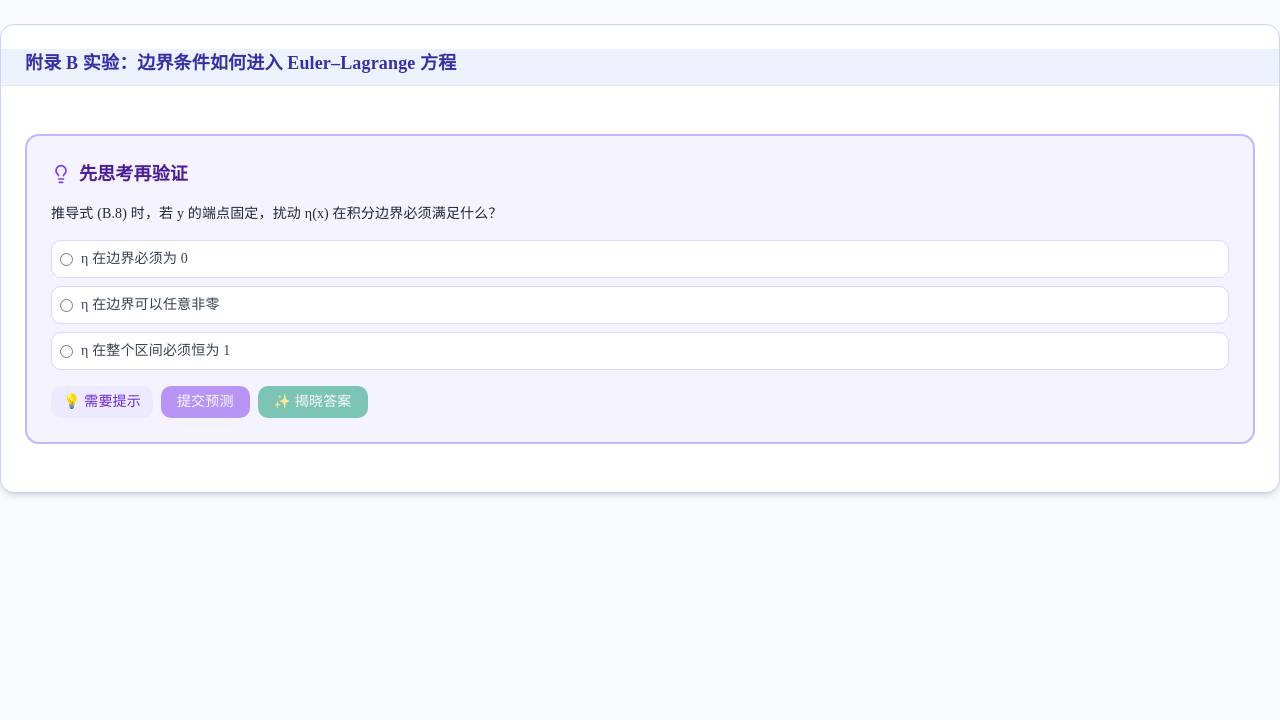
Test case: appendices A–C teaching-ready learning loops › makes the fixed-boundary assumption observable before the variational residual
Click the radio button labelled "η 在边界必须为 0" at (66, 259), box [60, 252, 73, 266]
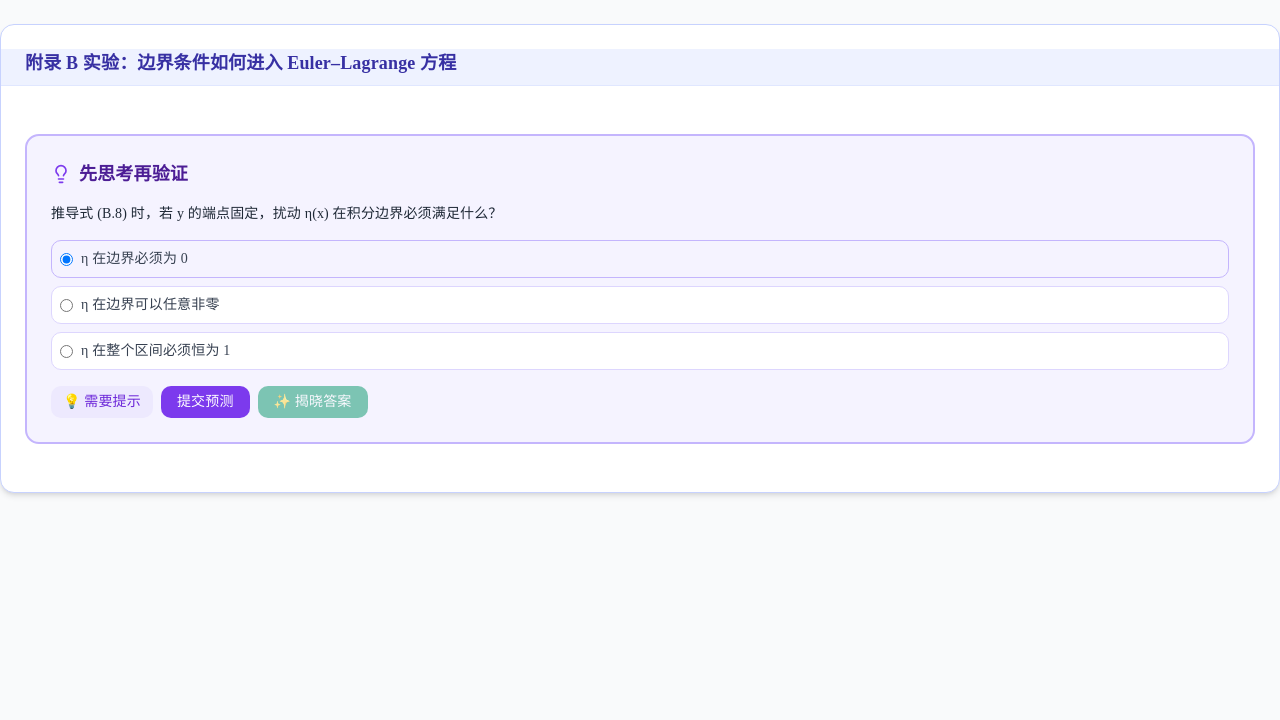
Click the button "提交预测" at (205, 402), box [161, 386, 250, 418]
(page scrolled)
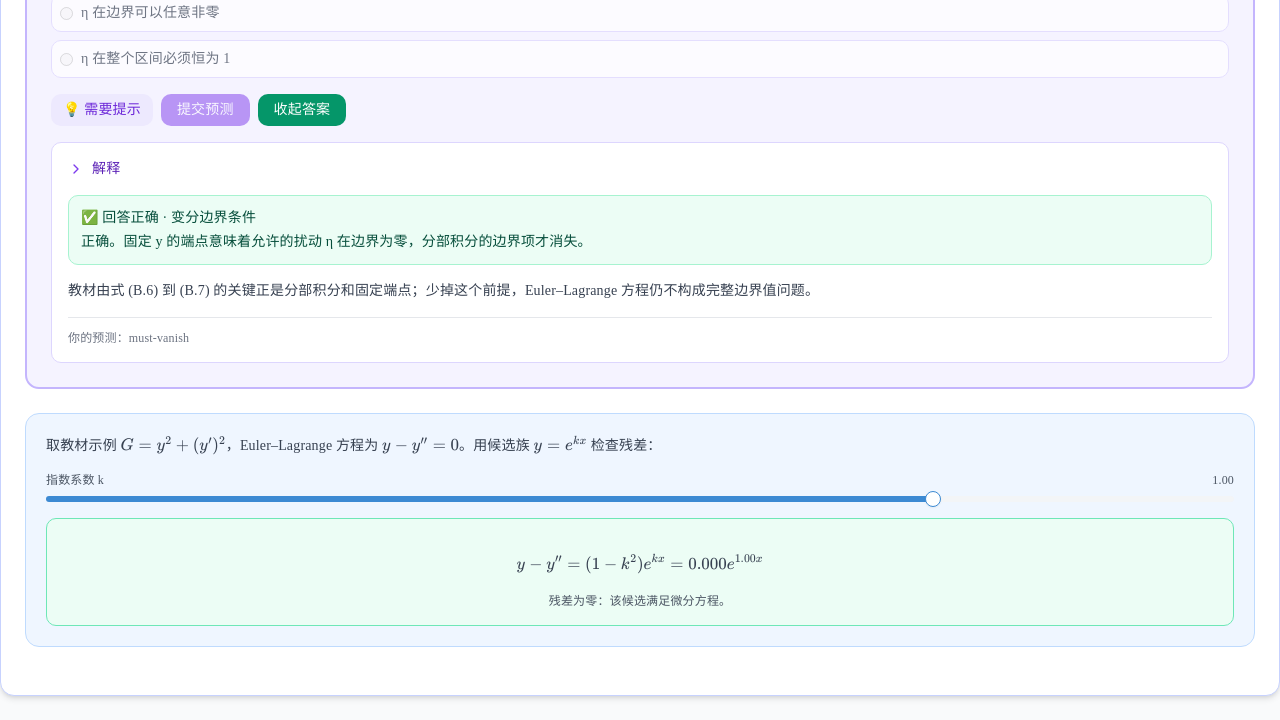
expect the element named "Euler-Lagrange 残差实验区" is shown: met, box [25, 413, 1255, 647]
expect the element with test id "evaluation-feedback" shows "回答正确": met, box [81, 210, 159, 225]
expect the text "残差为零：该候选满足微分方程。" is shown: met, box [549, 594, 731, 608]
